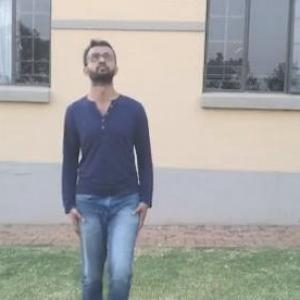follow: (53, 27, 157, 299)
